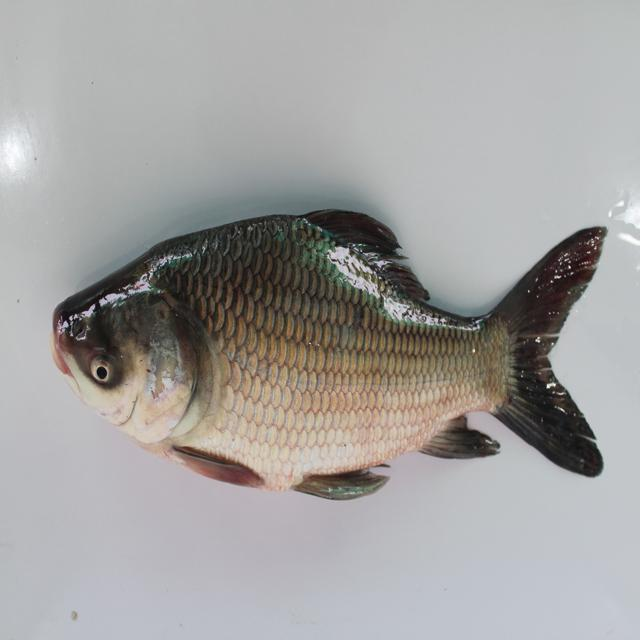Indian Carp: (51, 205, 617, 505)
